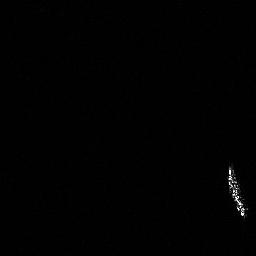ship: (223, 161, 252, 219)
